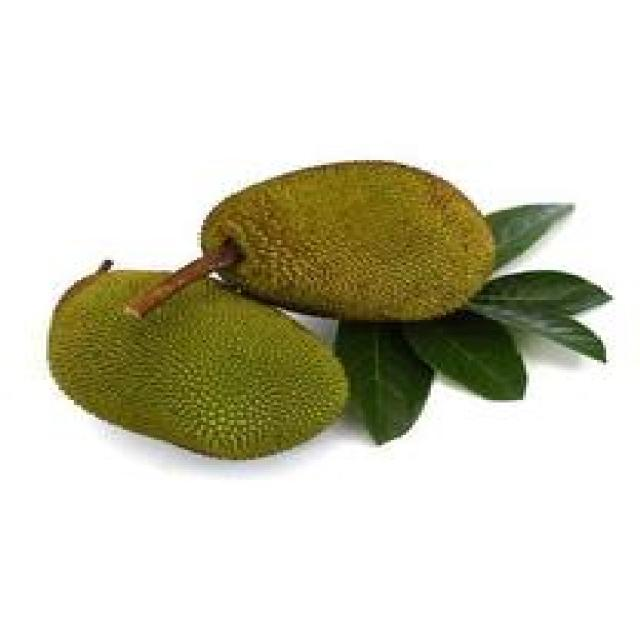Fruit: (31, 258, 363, 478), (191, 142, 511, 342)
